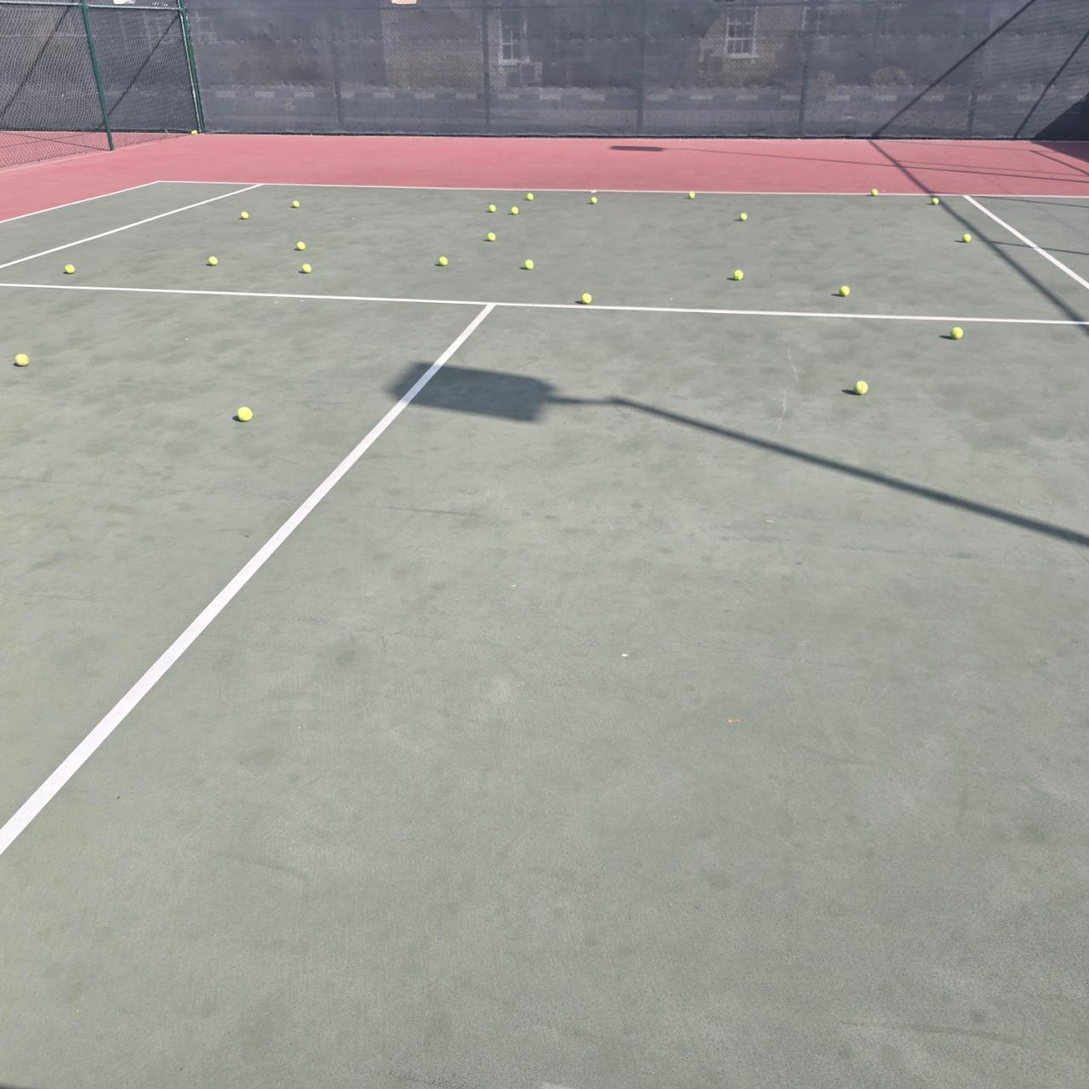tennis-ball: (235, 406, 252, 422), (853, 379, 869, 394), (14, 352, 30, 366), (950, 326, 964, 340), (63, 263, 75, 274), (839, 284, 850, 296), (581, 292, 592, 304), (733, 269, 744, 281), (207, 255, 218, 266), (438, 255, 448, 266), (524, 259, 534, 270), (302, 263, 312, 273), (296, 241, 306, 251), (487, 231, 496, 242), (962, 233, 971, 243), (739, 212, 748, 221), (241, 211, 249, 220), (511, 206, 519, 215), (526, 192, 534, 201), (590, 195, 598, 204), (931, 197, 940, 205), (871, 188, 879, 197), (292, 200, 300, 208), (488, 204, 496, 212), (191, 129, 198, 136), (688, 191, 695, 198)
